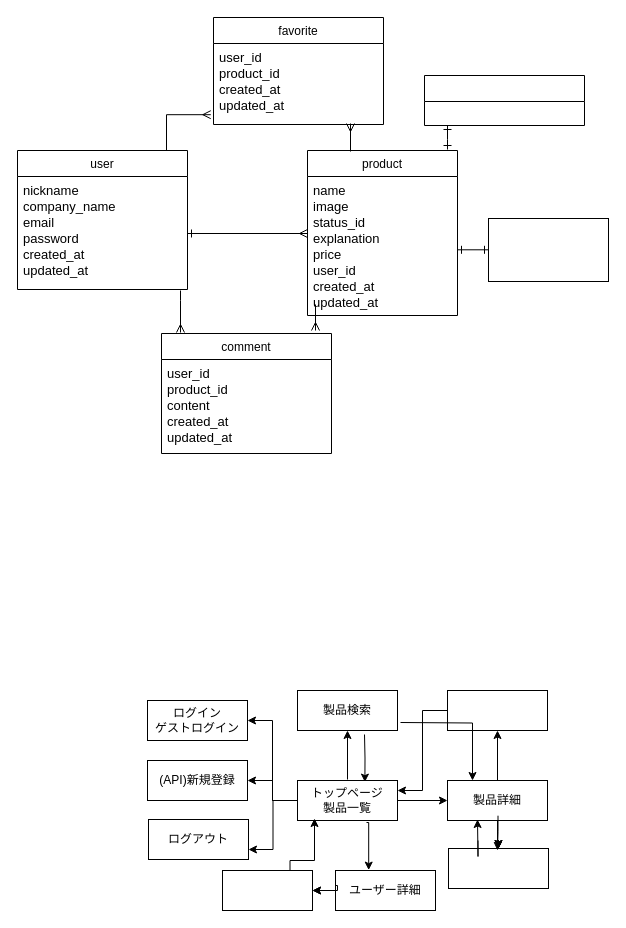
The diagram is 626 pixels wide and 928 high, and some of its shapes have lost their labels. The centre of each missing label's shape, as x and y in pixels:
status: point 504,100
※ imageはActive Strageで保存: point 548,250
コメント: point 498,868
ユーザー編集・削除: point 267,890
製品削除・編集: point 497,710
